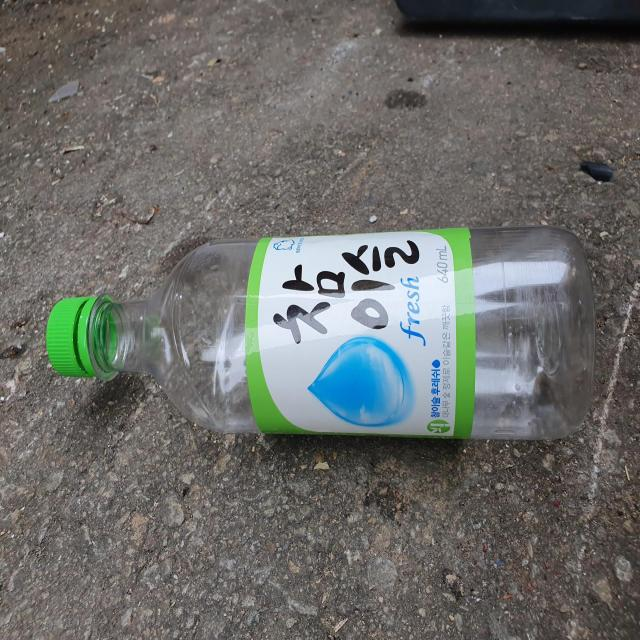plastic: (46, 226, 596, 439)
